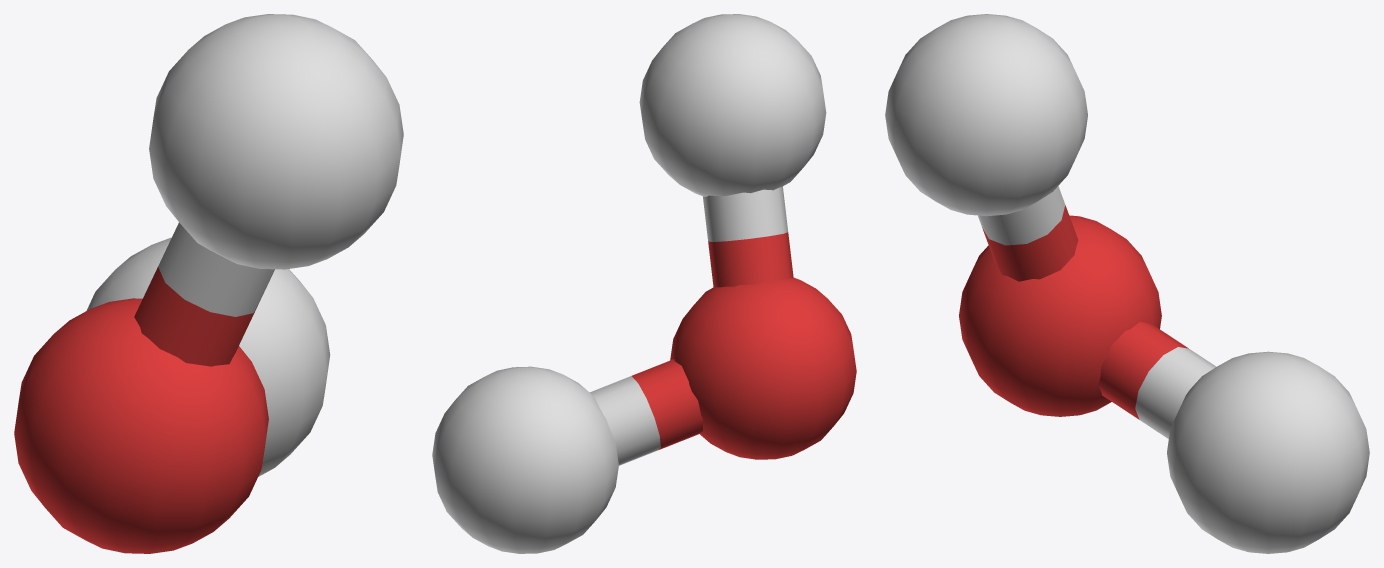
The model's file is water-bas.glb.
The picture shows the model from 3 angles, left to right: view 1: azimuth 30°, elevation 25°; view 2: azimuth 150°, elevation 25°; view 3: azimuth 270°, elevation 25°; orthographic projection. The views are drawn at different scales.
Parts seen in each view (by area): view 1: water-bas; view 2: water-bas; view 3: water-bas.
Part boxes in pixels (x1=…): water-bas: x1=14, y1=14, x2=403, y2=553; water-bas: x1=432, y1=14, x2=856, y2=553; water-bas: x1=885, y1=14, x2=1369, y2=553.
Size of the model in its own units: 1.31 by 1.83 by 1.67.
